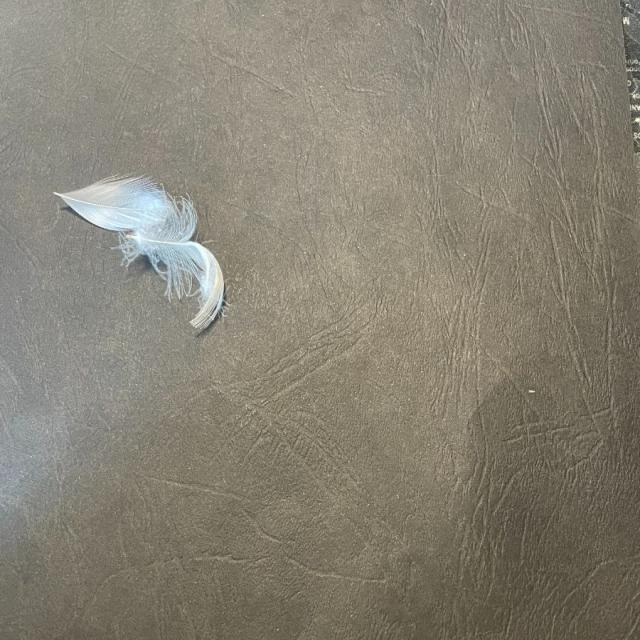feather: (121, 207, 225, 326), (49, 173, 174, 230)
